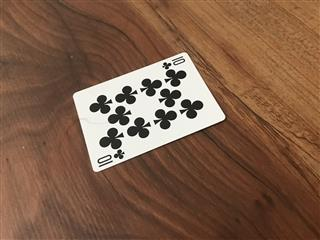TenOfClubs: (71, 50, 226, 172)
